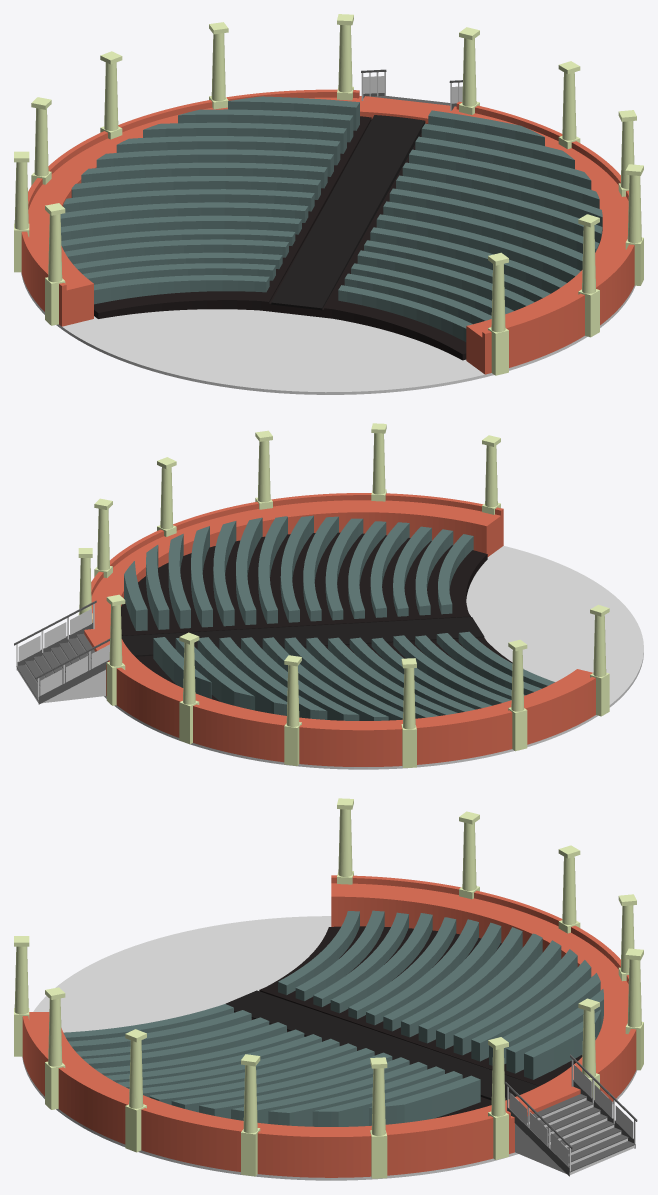
The model's file is asset.glb.
The picture shows the model from 3 angles, top to bottom: view 1: azimuth 30°, elevation 25°; view 2: azimuth 150°, elevation 25°; view 3: azimuth 270°, elevation 25°; orthographic projection. The views are drawn at different scales.
Size of the model in its own units: 20.34 by 4.17 by 20.34.
